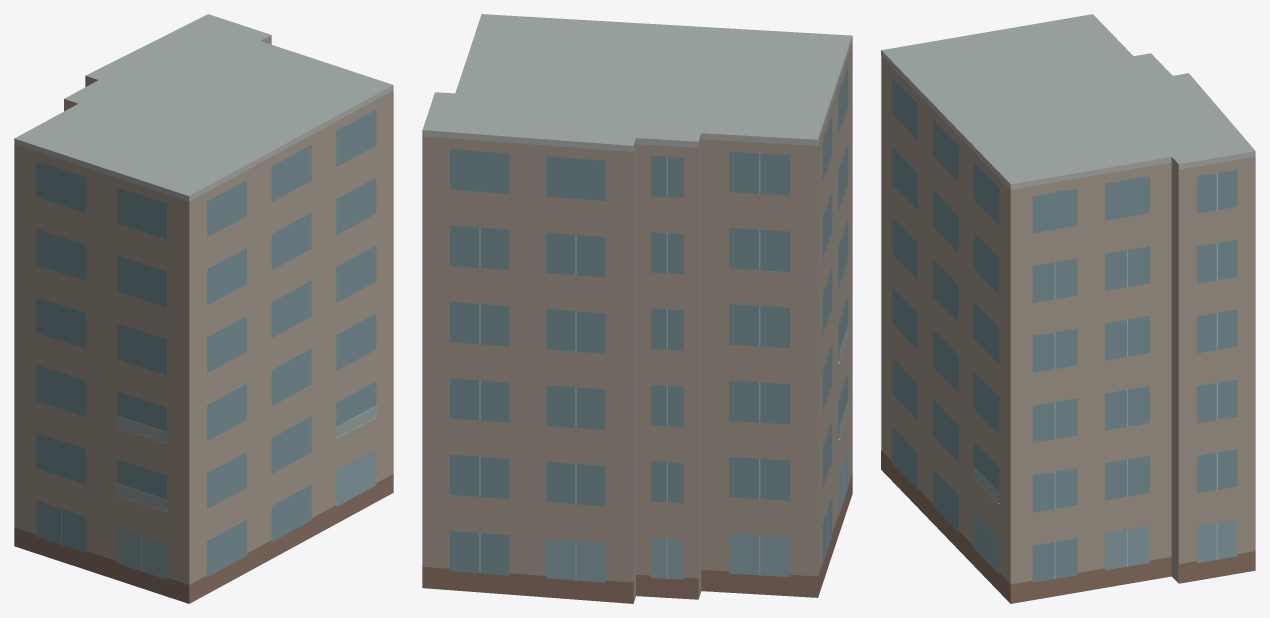
The model's file is survey-upis-32748331.glb.
The picture shows the model from 3 angles, left to right: view 1: azimuth 30°, elevation 25°; view 2: azimuth 150°, elevation 25°; view 3: azimuth 270°, elevation 25°; orthographic projection. The views are drawn at different scales.
Visible parts, largest first — view 1: survey-upis-32748331.tmp; view 2: survey-upis-32748331.tmp; view 3: survey-upis-32748331.tmp.
Part boxes in pixels (x1,y1,x2,y2): survey-upis-32748331.tmp: [14, 14, 393, 603]; survey-upis-32748331.tmp: [422, 14, 852, 603]; survey-upis-32748331.tmp: [881, 14, 1255, 603].
Bounding box in the file's own units: 15.95 × 18.3 × 14.82.
